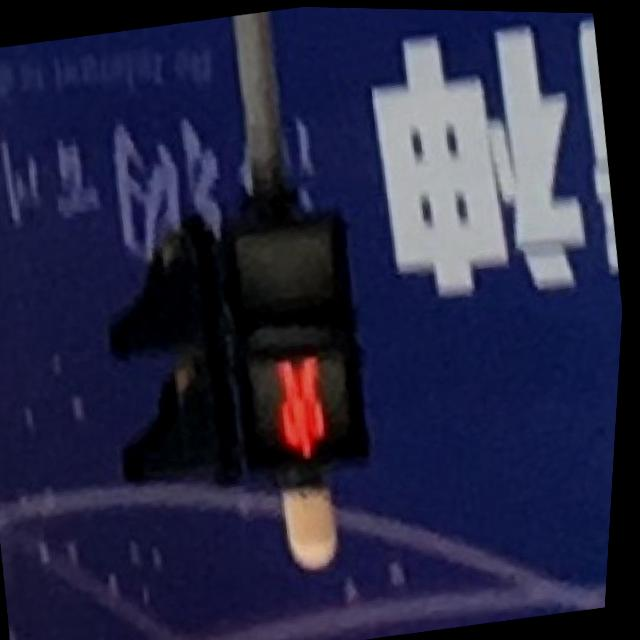red_light: (242, 339, 377, 476)
